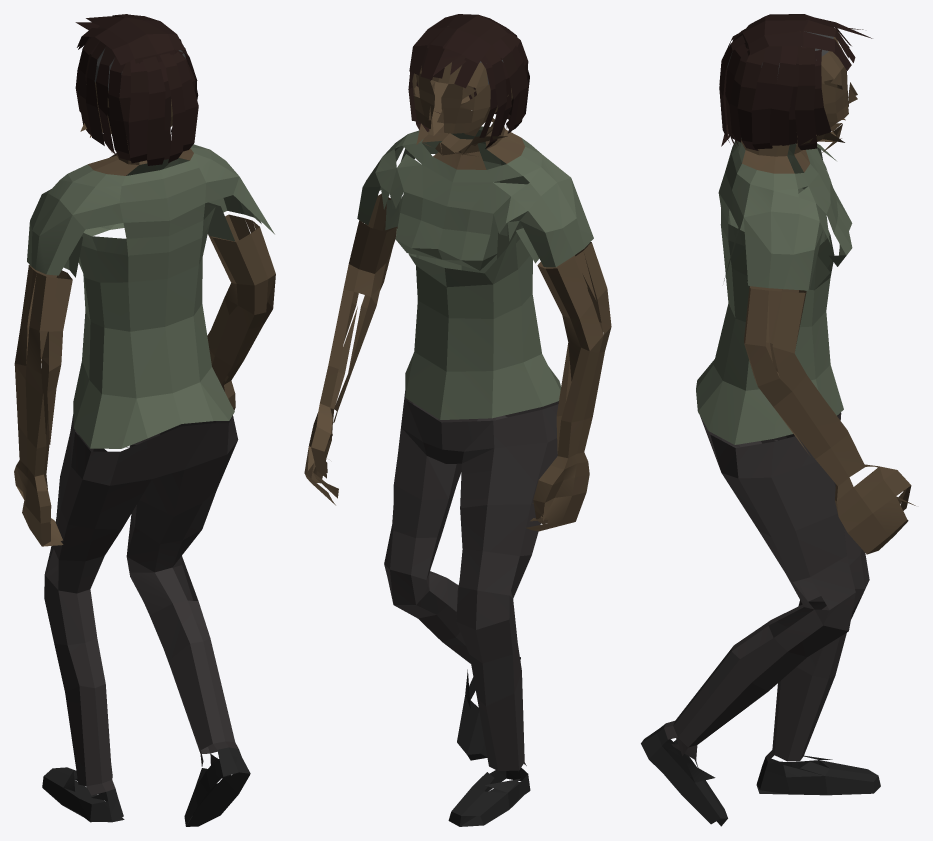
The model's file is person_7_w2.fbx.
3 views of the same model, side by side, from view 1: azimuth 30°, elevation 25°; view 2: azimuth 150°, elevation 25°; view 3: azimuth 270°, elevation 25° (orthographic). The views are drawn at different scales.
Visible parts, largest first — view 1: Female; view 2: Female; view 3: Female.
Part boxes in pixels (bbox=[...]): Female: bbox=[14, 14, 275, 826]; Female: bbox=[304, 14, 611, 826]; Female: bbox=[641, 14, 915, 826].
Bounding box in the file's own units: 0.3325 × 1 × 0.3189.
